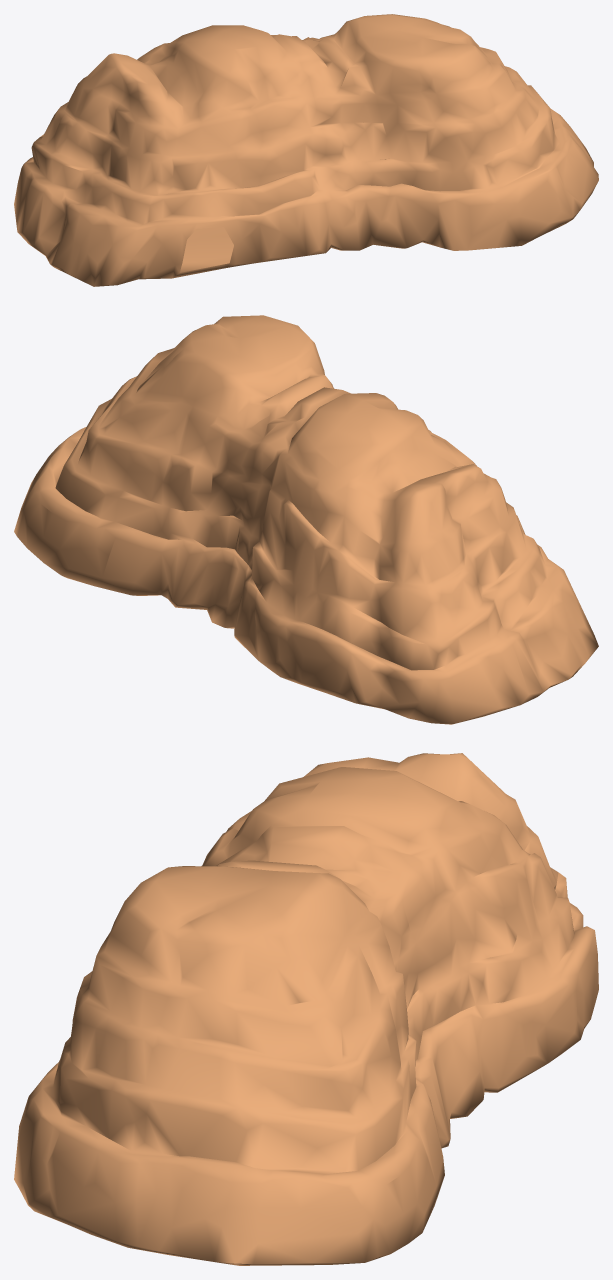
File: vuorireialla.fbx
3 views of the same model, one above another, from view 1: azimuth 30°, elevation 25°; view 2: azimuth 150°, elevation 25°; view 3: azimuth 270°, elevation 25° (orthographic). The views are drawn at different scales.
Visible parts, largest first — view 1: vuori2; view 2: vuori2; view 3: vuori2.
Boxes of the visible parts, x1=… form: vuori2: x1=14, y1=14, x2=598, y2=286; vuori2: x1=14, y1=315, x2=598, y2=724; vuori2: x1=14, y1=753, x2=598, y2=1265.
Size of the model in its own units: 36.42 by 12.9 by 24.29.
